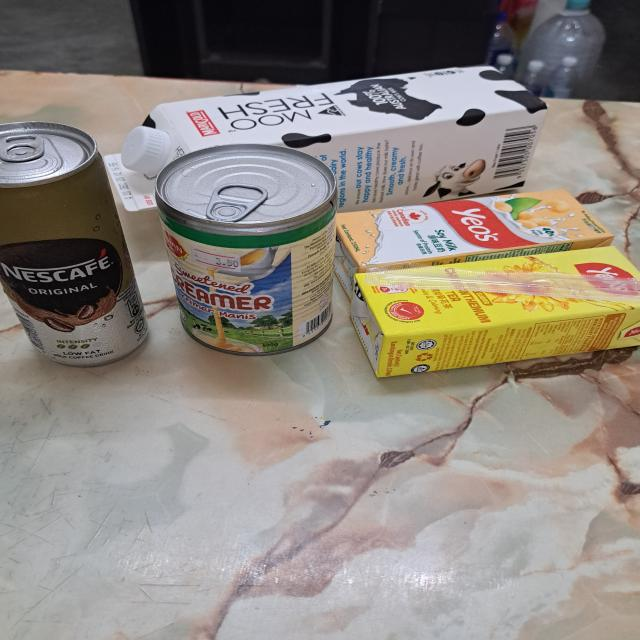can: (158, 143, 336, 357), (0, 121, 151, 371)
drink carton: (122, 64, 548, 209), (349, 245, 640, 380), (338, 188, 612, 272)
plastic bottle cap: (121, 124, 172, 176)
pop tab: (206, 180, 268, 226), (0, 130, 47, 162)
